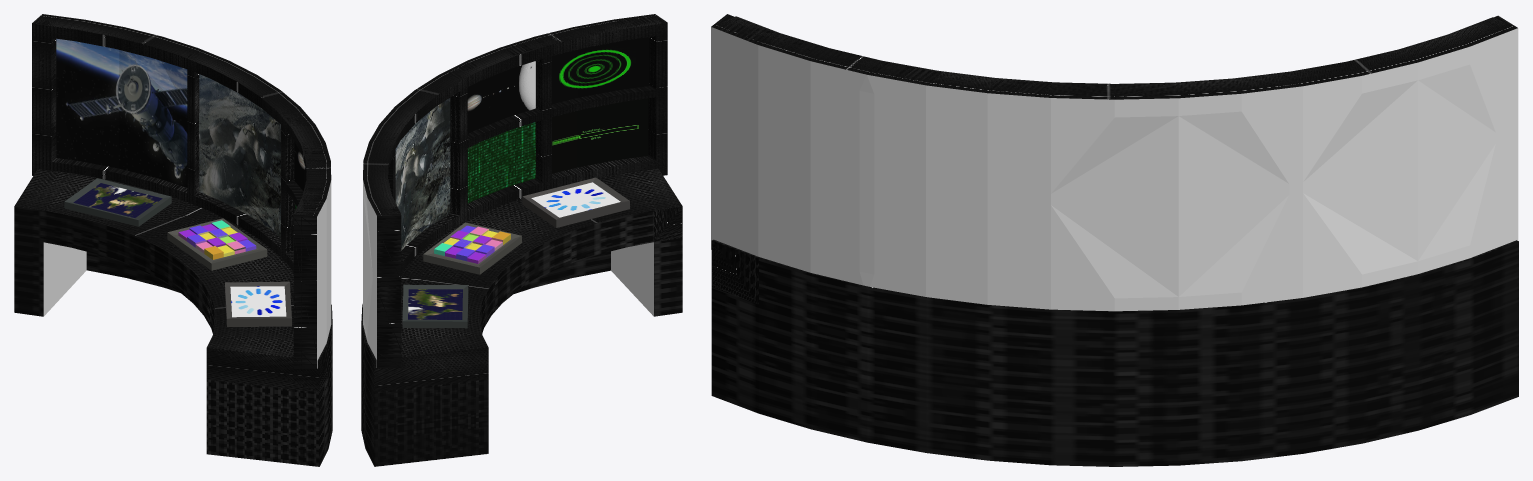
File: consola_mando.fbx
3 views of the same model, side by side, from view 1: azimuth 30°, elevation 25°; view 2: azimuth 150°, elevation 25°; view 3: azimuth 270°, elevation 25° (orthographic). The views are drawn at different scales.
Parts seen in each view (by area): view 1: Cube, Cubo.002, Cubo, Cubo.001; view 2: Cube, Cubo.001, Cubo.002, Cubo; view 3: Cube.
Boxes of the visible parts, x1,y1,x2,y2 form: Cube: (14, 14, 332, 466); Cubo.002: (167, 218, 267, 270); Cubo: (64, 178, 171, 226); Cubo.001: (225, 281, 291, 326); Cube: (361, 14, 682, 466); Cubo.001: (522, 177, 629, 227); Cubo.002: (423, 222, 521, 274); Cubo: (402, 284, 468, 328); Cube: (711, 14, 1518, 466).
Bounding box in the file's own units: 362 × 507 × 1011.
13 materials, 10 textured.
